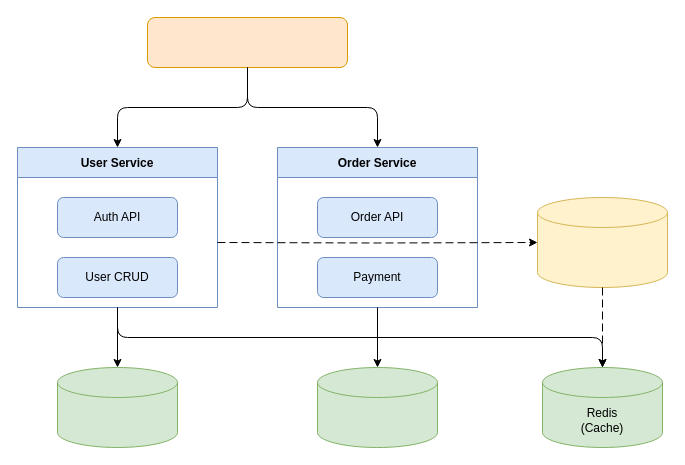
Some shapes in this 685 by 465 pixel diagram are drawn without their labels. The centre of each missing label's shape, as x and y in pixels:
API Gateway: point (247, 42)
Message Queue (RabbitMQ): point (602, 242)
MySQL (Order DB): point (377, 407)
MySQL (User DB): point (117, 407)
